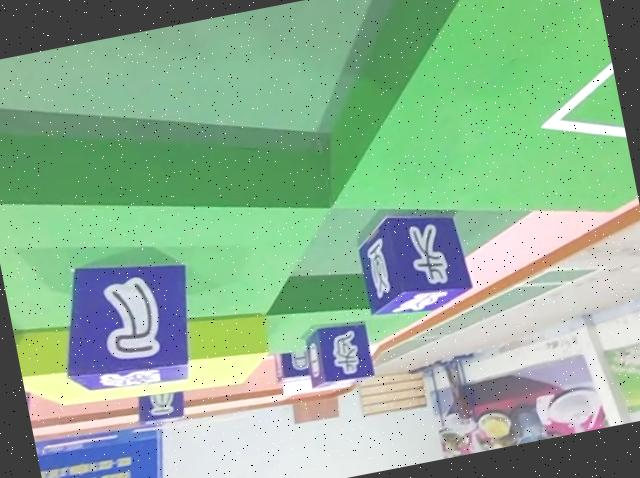R2 Fake Blue: (44, 242, 205, 400), (348, 200, 473, 321), (296, 315, 373, 390), (130, 383, 188, 426), (271, 344, 315, 384)
